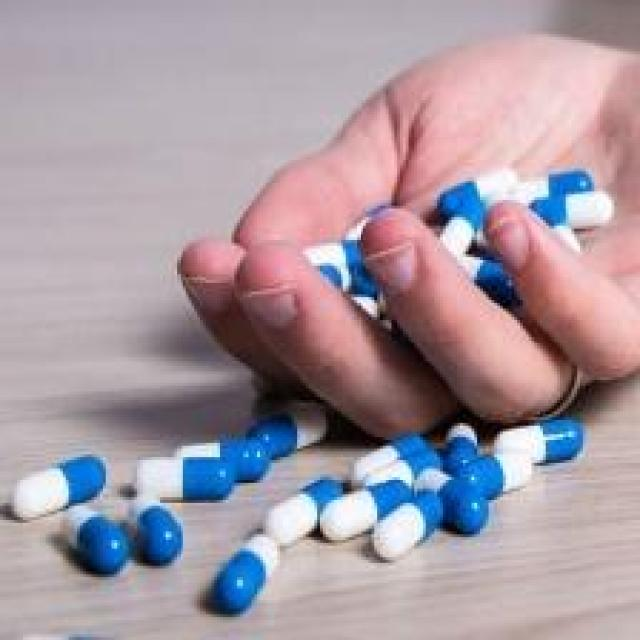Medicine: (0, 135, 640, 640)
